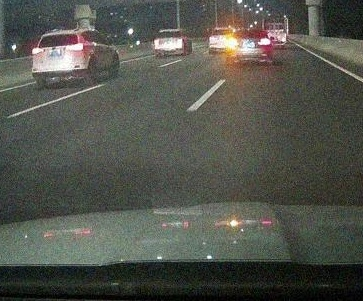L_light: (32, 47, 43, 55), (226, 39, 237, 46), (154, 40, 160, 43)
R_light: (70, 44, 84, 52), (258, 38, 271, 46), (175, 39, 182, 43)
T_light: (54, 34, 63, 37), (245, 31, 254, 34), (165, 31, 171, 33)
night-left: (225, 28, 272, 64)
night-no: (31, 29, 86, 84), (154, 29, 185, 56)
